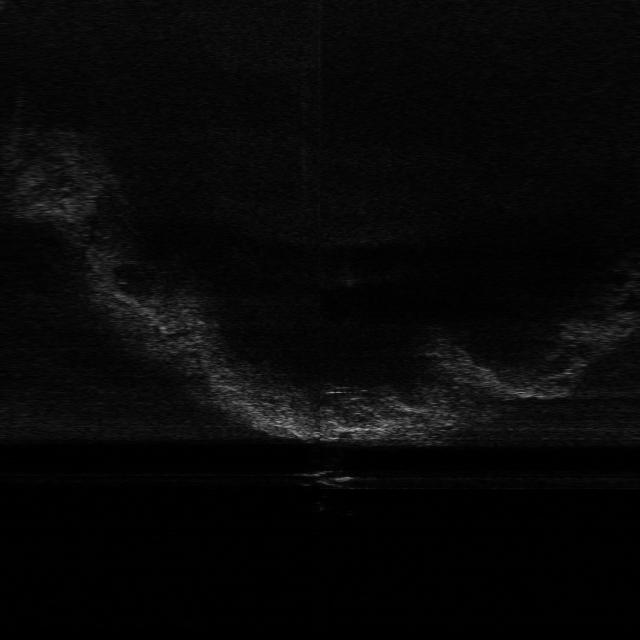plane: (292, 469, 372, 492)
